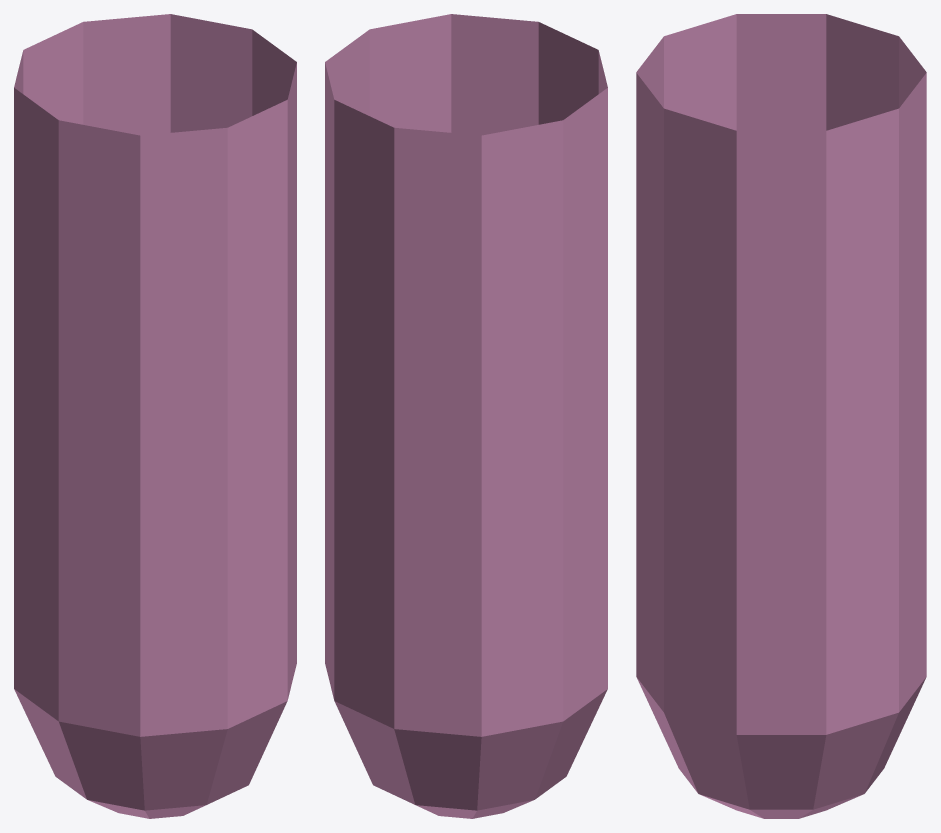
File: Reagenzglas_inhalt.FBX
3 views of the same model, side by side, from view 1: azimuth 30°, elevation 25°; view 2: azimuth 150°, elevation 25°; view 3: azimuth 270°, elevation 25° (orthographic).
Visible parts, largest first — view 1: Reagenzglas inhalt; view 2: Reagenzglas inhalt; view 3: Reagenzglas inhalt.
Boxes of the visible parts, left/top/right/bottom form: Reagenzglas inhalt: left=14, top=14, right=296, bottom=818; Reagenzglas inhalt: left=325, top=14, right=607, bottom=818; Reagenzglas inhalt: left=636, top=14, right=926, bottom=818.
Size of the model in its own units: 27.39 by 80.27 by 28.8.
